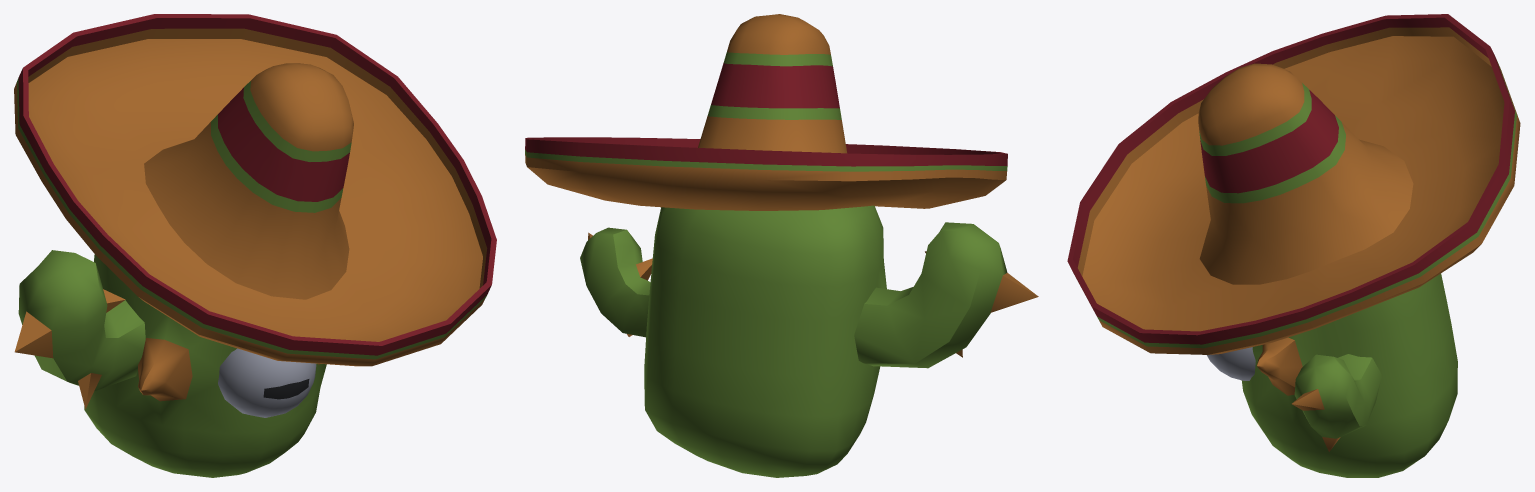
Rendered from cactoro.glb.
3 renders of one model, left to right at view 1: azimuth 30°, elevation 25°; view 2: azimuth 150°, elevation 25°; view 3: azimuth 270°, elevation 25°, orthographic. The views are drawn at different scales.
Parts seen in each view (by area): view 1: Cactoro_Blob.001, Cactoro_Blob; view 2: Cactoro_Blob, Cactoro_Blob.001; view 3: Cactoro_Blob.001, Cactoro_Blob.
Boxes of the visible parts, x1,y1,x2,y2 form: Cactoro_Blob.001: (14, 14, 496, 417); Cactoro_Blob: (14, 250, 326, 477); Cactoro_Blob: (580, 205, 1038, 477); Cactoro_Blob.001: (525, 14, 1007, 210); Cactoro_Blob.001: (1067, 14, 1520, 380); Cactoro_Blob: (1241, 273, 1457, 477).
Bounding box in the file's own units: 4.07 × 3.49 × 3.52.
1 material, 1 textured.
